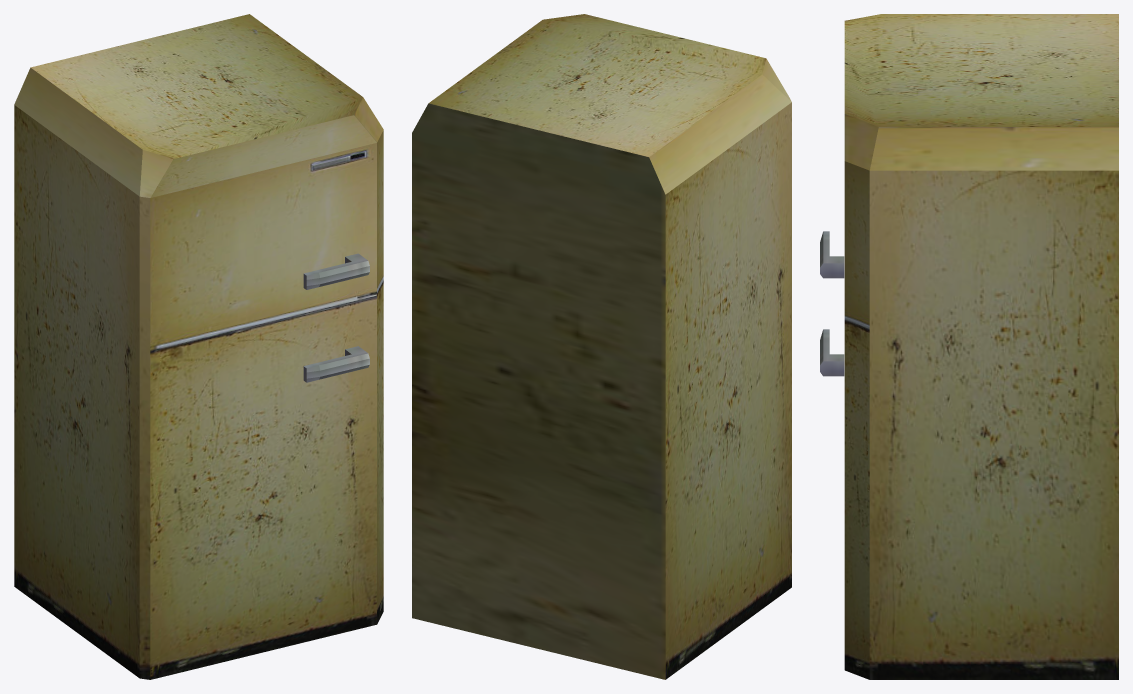
The model's file is Fridge.fbx.
3 renders of one model, left to right at view 1: azimuth 30°, elevation 25°; view 2: azimuth 150°, elevation 25°; view 3: azimuth 270°, elevation 25°, orthographic. The views are drawn at different scales.
Parts seen in each view (by area): view 1: Fridge; view 2: Fridge; view 3: Fridge.
Boxes of the visible parts, box(x1,y1,x2,y2) form: Fridge: box(14, 14, 383, 679); Fridge: box(412, 14, 791, 679); Fridge: box(820, 14, 1118, 679).
Size of the model in its own units: 1.81 by 1.76 by 3.54.
